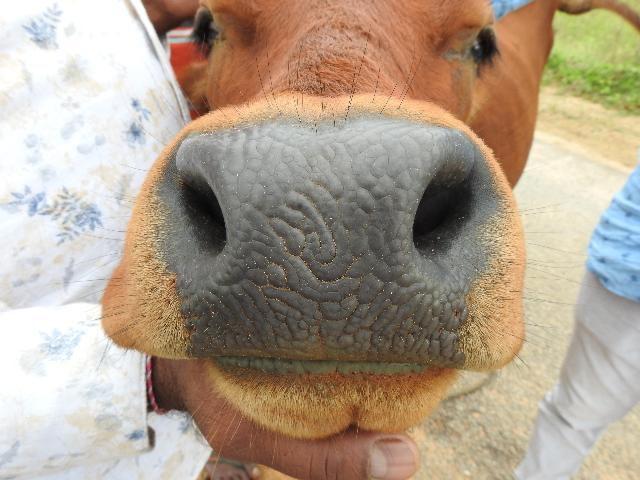Muzzle: (195, 135, 432, 353)
